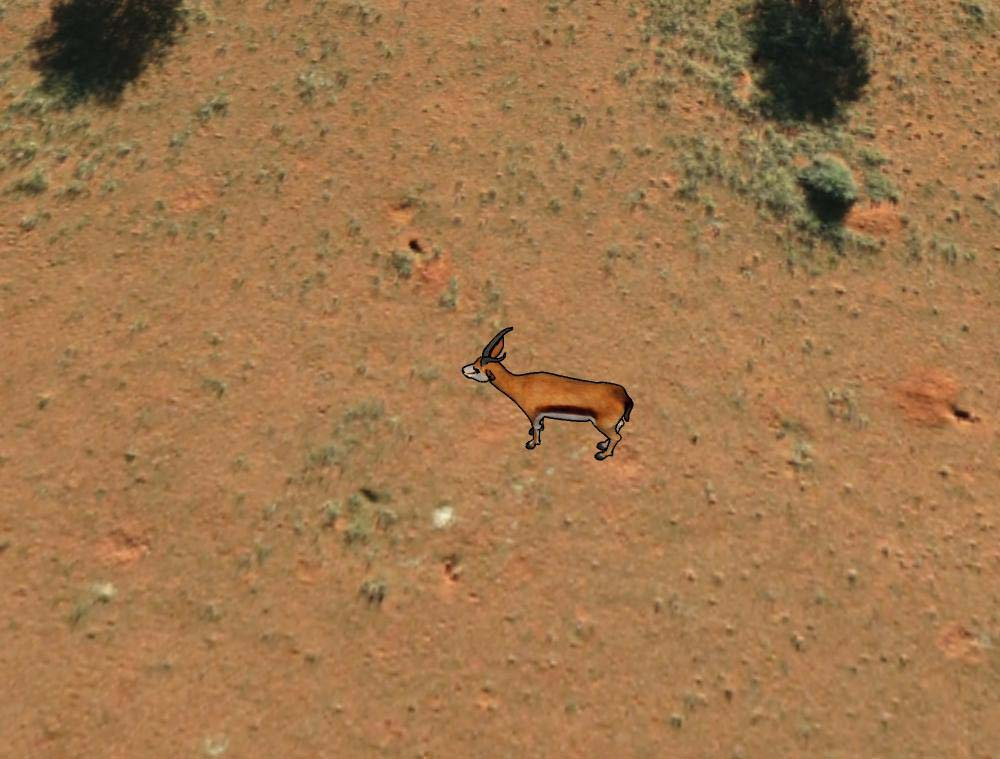springbok: (457, 326, 635, 466)
